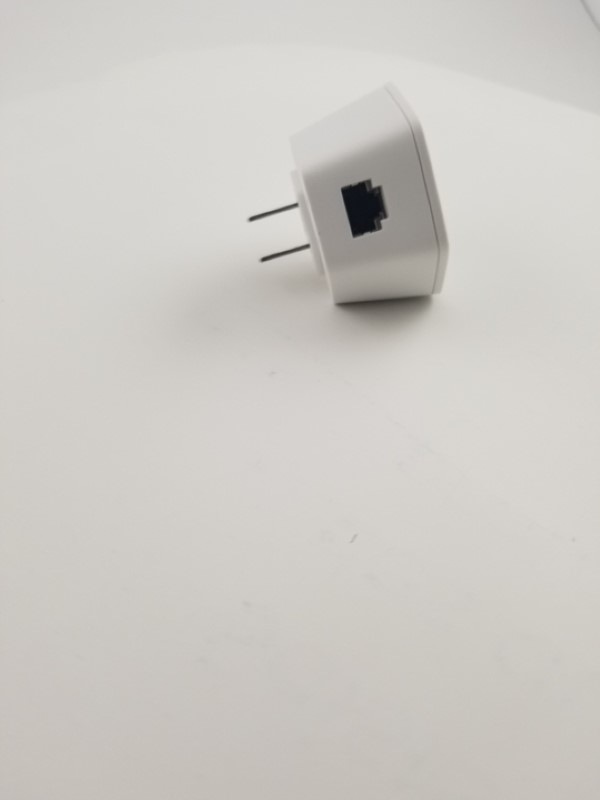pod: (240, 75, 458, 325)
